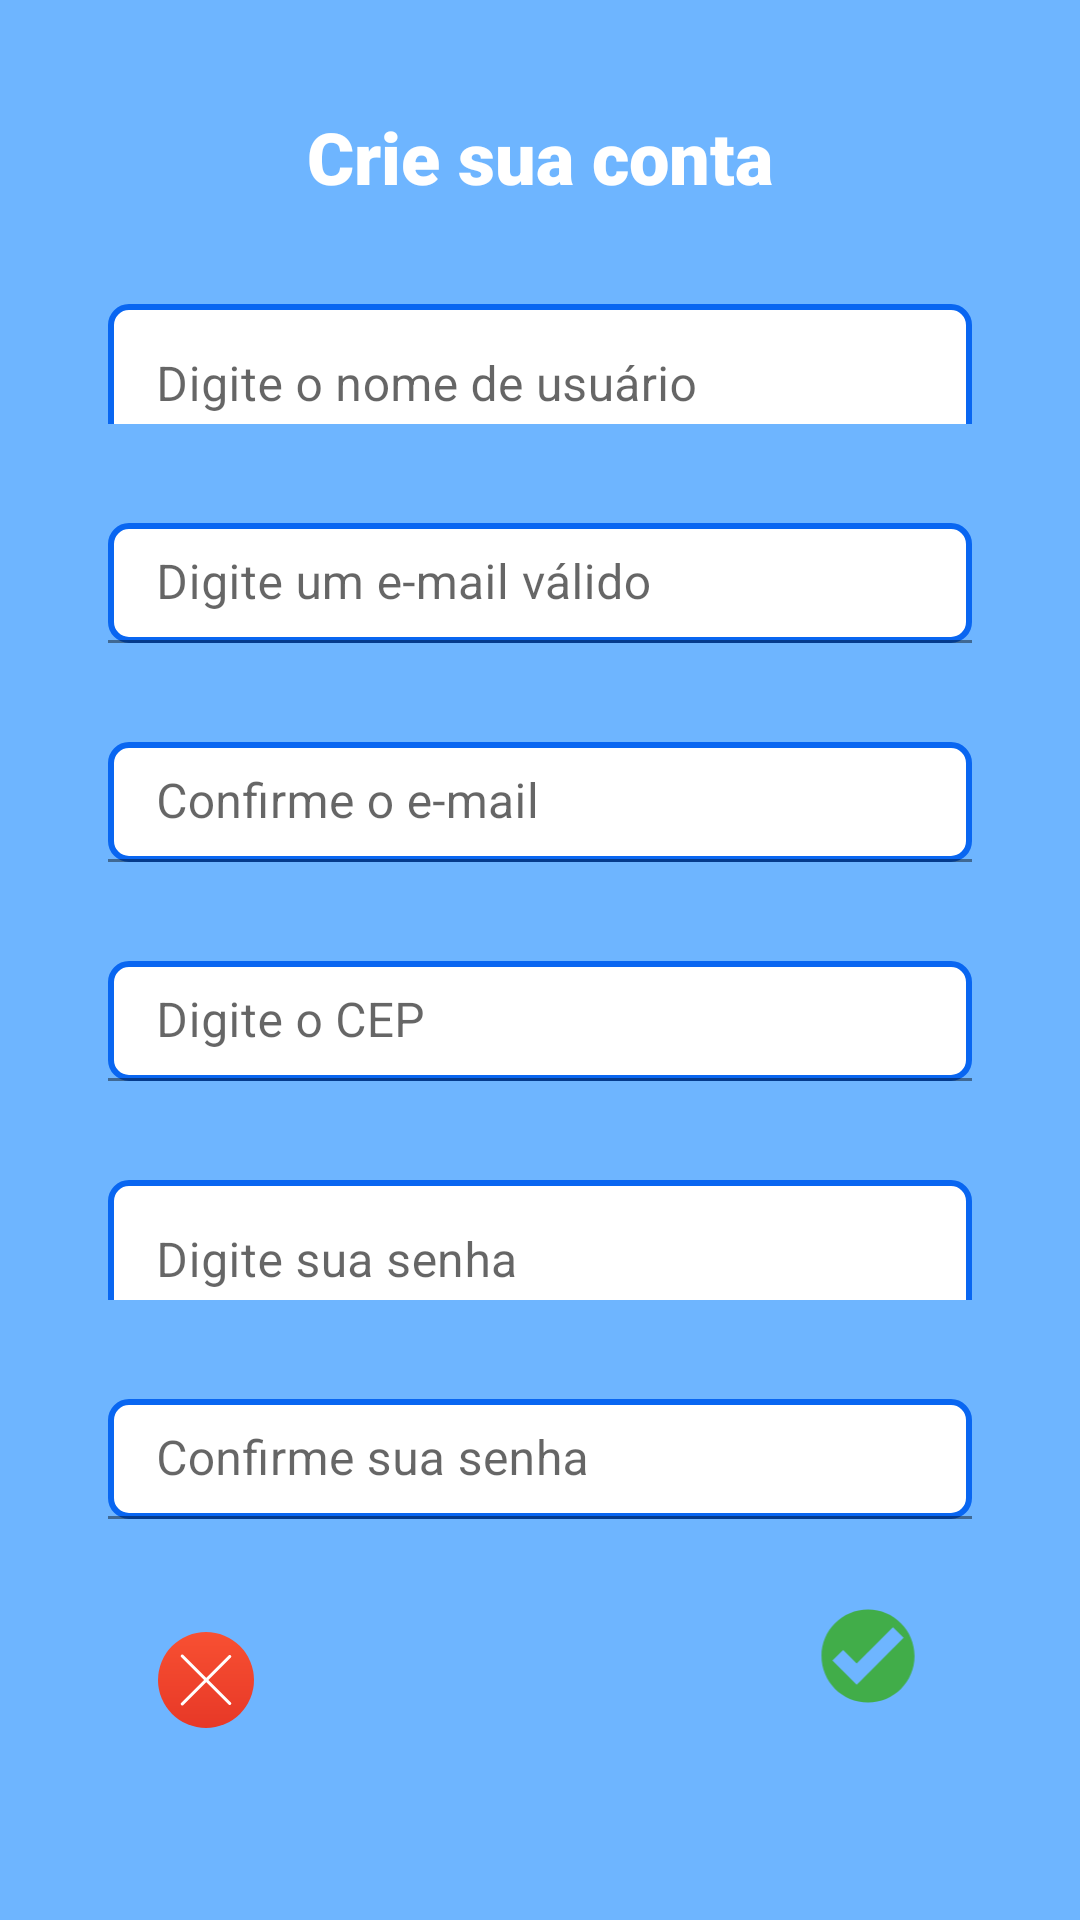

Named icons in this screenshot (1080 × 1920) and their centers, (x,y):
cancel: (206,1680)
correct: (868,1656)
